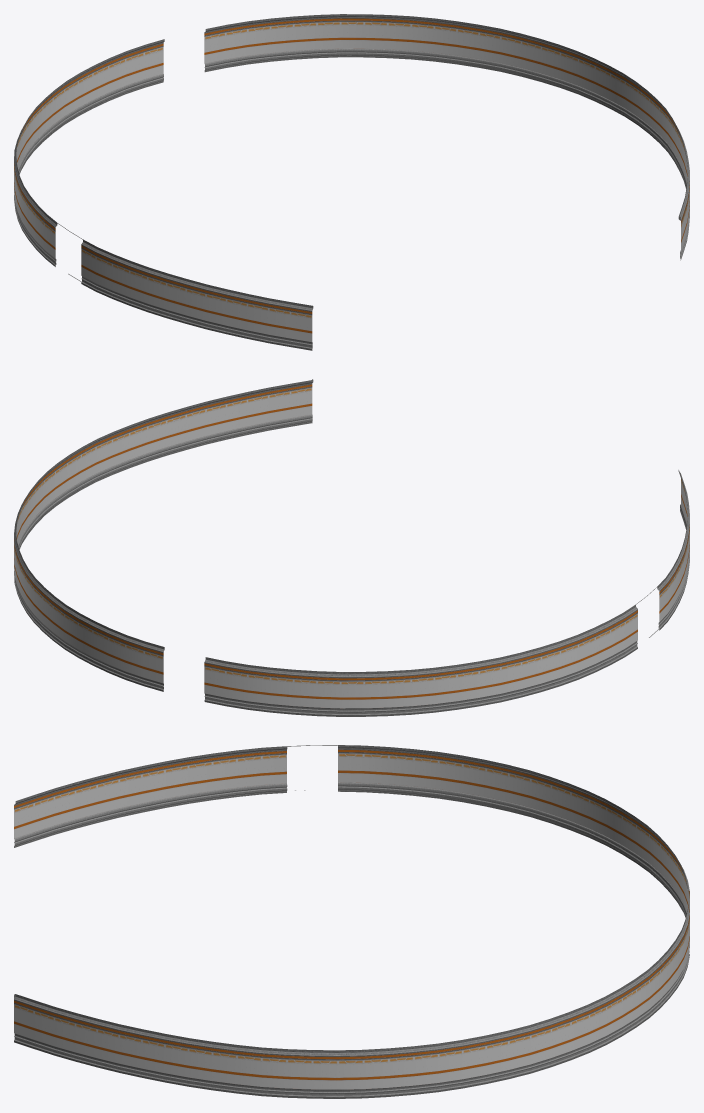
File: GroundWalls.fbx
The picture shows the model from 3 angles, top to bottom: view 1: azimuth 30°, elevation 25°; view 2: azimuth 150°, elevation 25°; view 3: azimuth 270°, elevation 25°; orthographic projection. The views are drawn at different scales.
Parts seen in each view (by area): view 1: GroundWalls; view 2: GroundWalls; view 3: GroundWalls.
Boxes of the visible parts, x1,y1,x2,y2 form: GroundWalls: (14,14,689,350); GroundWalls: (14,379,689,716); GroundWalls: (14,745,689,1098).
Size of the model in its own units: 121 by 8.8 by 112.
